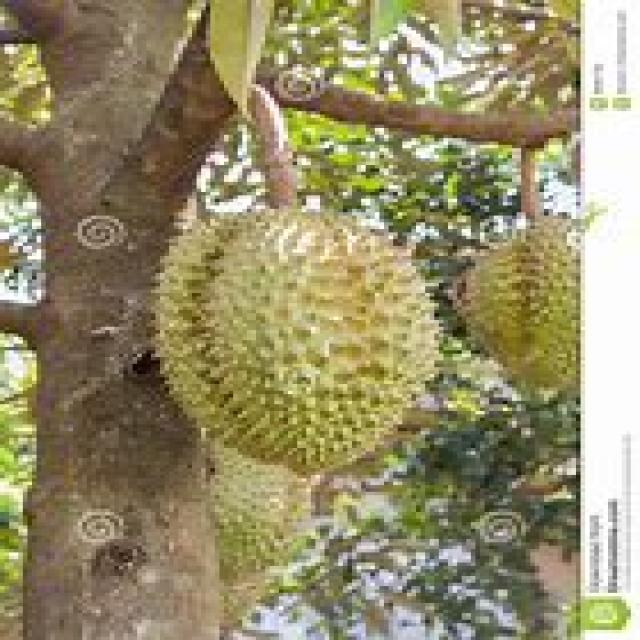mature: (158, 211, 438, 472)
